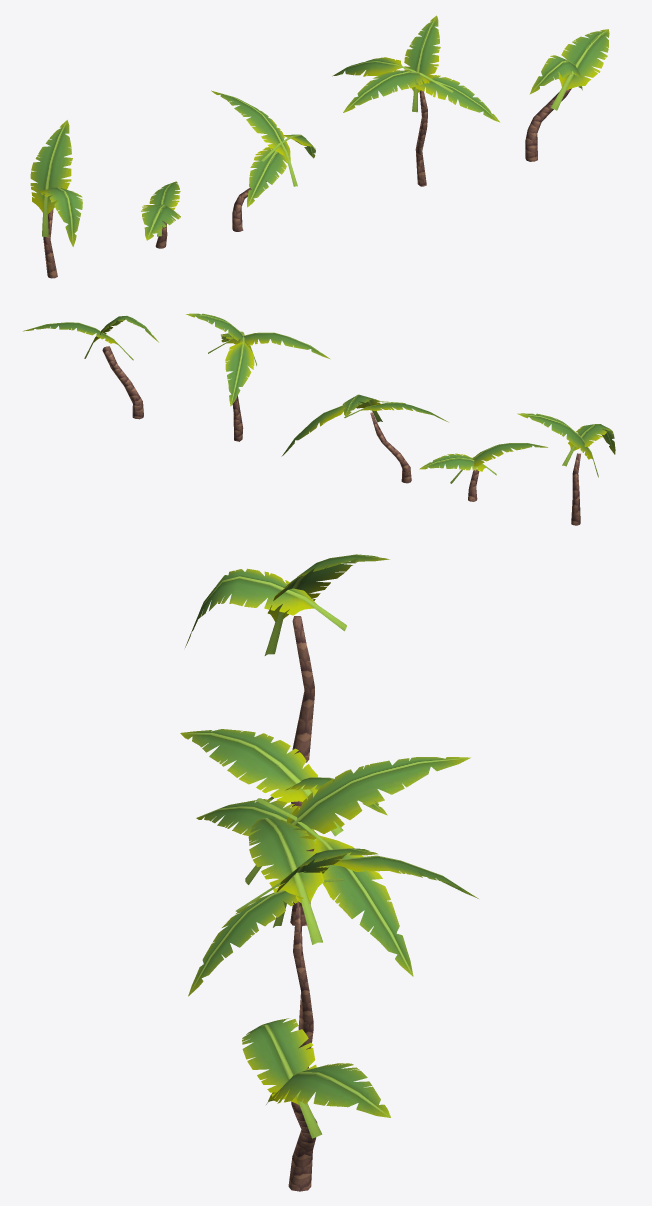
File: palm_trees_free_model_lo.glb
3 renders of one model, top to bottom at view 1: azimuth 30°, elevation 25°; view 2: azimuth 150°, elevation 25°; view 3: azimuth 270°, elevation 25°, orthographic. The views are drawn at different scales.
Visible parts, largest first — view 1: PalmTree_1, PalmTree_3, PalmTree_2, PalmTree_4, PalmTree_5; view 2: PalmTree_1, PalmTree_3, PalmTree_4, PalmTree_2, PalmTree_5; view 3: PalmTree_4, PalmTree_1, PalmTree_2, PalmTree_3, PalmTree_5.
Part boxes in pixels (x1,y1,x2,y2): PalmTree_1: (332,15,500,186); PalmTree_3: (30,120,82,278); PalmTree_2: (525,29,609,161); PalmTree_4: (211,90,315,231); PalmTree_5: (141,181,180,248); PalmTree_1: (186,313,330,441); PalmTree_3: (517,413,615,525); PalmTree_4: (281,394,448,483); PalmTree_2: (23,315,158,419); PalmTree_5: (419,443,547,501); PalmTree_4: (196,757,470,976); PalmTree_1: (188,818,478,1069); PalmTree_2: (242,1018,390,1191); PalmTree_3: (185,554,389,762); PalmTree_5: (180,729,387,851).
Size of the model in its own units: 25.62 by 5.62 by 7.12.
Materials: 2 (2 with a texture image).
